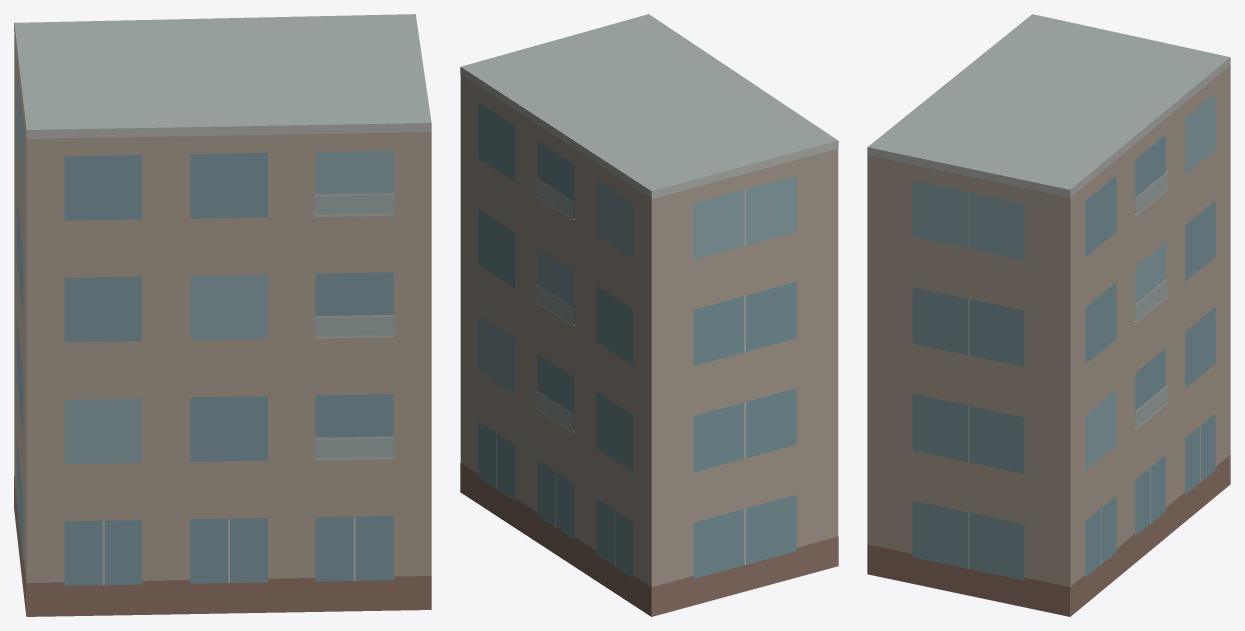
The model's file is survey-upis-32939427.glb.
3 renders of one model, left to right at view 1: azimuth 30°, elevation 25°; view 2: azimuth 150°, elevation 25°; view 3: azimuth 270°, elevation 25°, orthographic. The views are drawn at different scales.
Visible parts, largest first — view 1: survey-upis-32939427.tmp; view 2: survey-upis-32939427.tmp; view 3: survey-upis-32939427.tmp.
Boxes of the visible parts, x1,y1,x2,y2 form: survey-upis-32939427.tmp: (14,14,431,616); survey-upis-32939427.tmp: (460,14,838,616); survey-upis-32939427.tmp: (867,14,1230,616).
Bounding box in the file's own units: 11.66 × 13.2 × 10.18.
